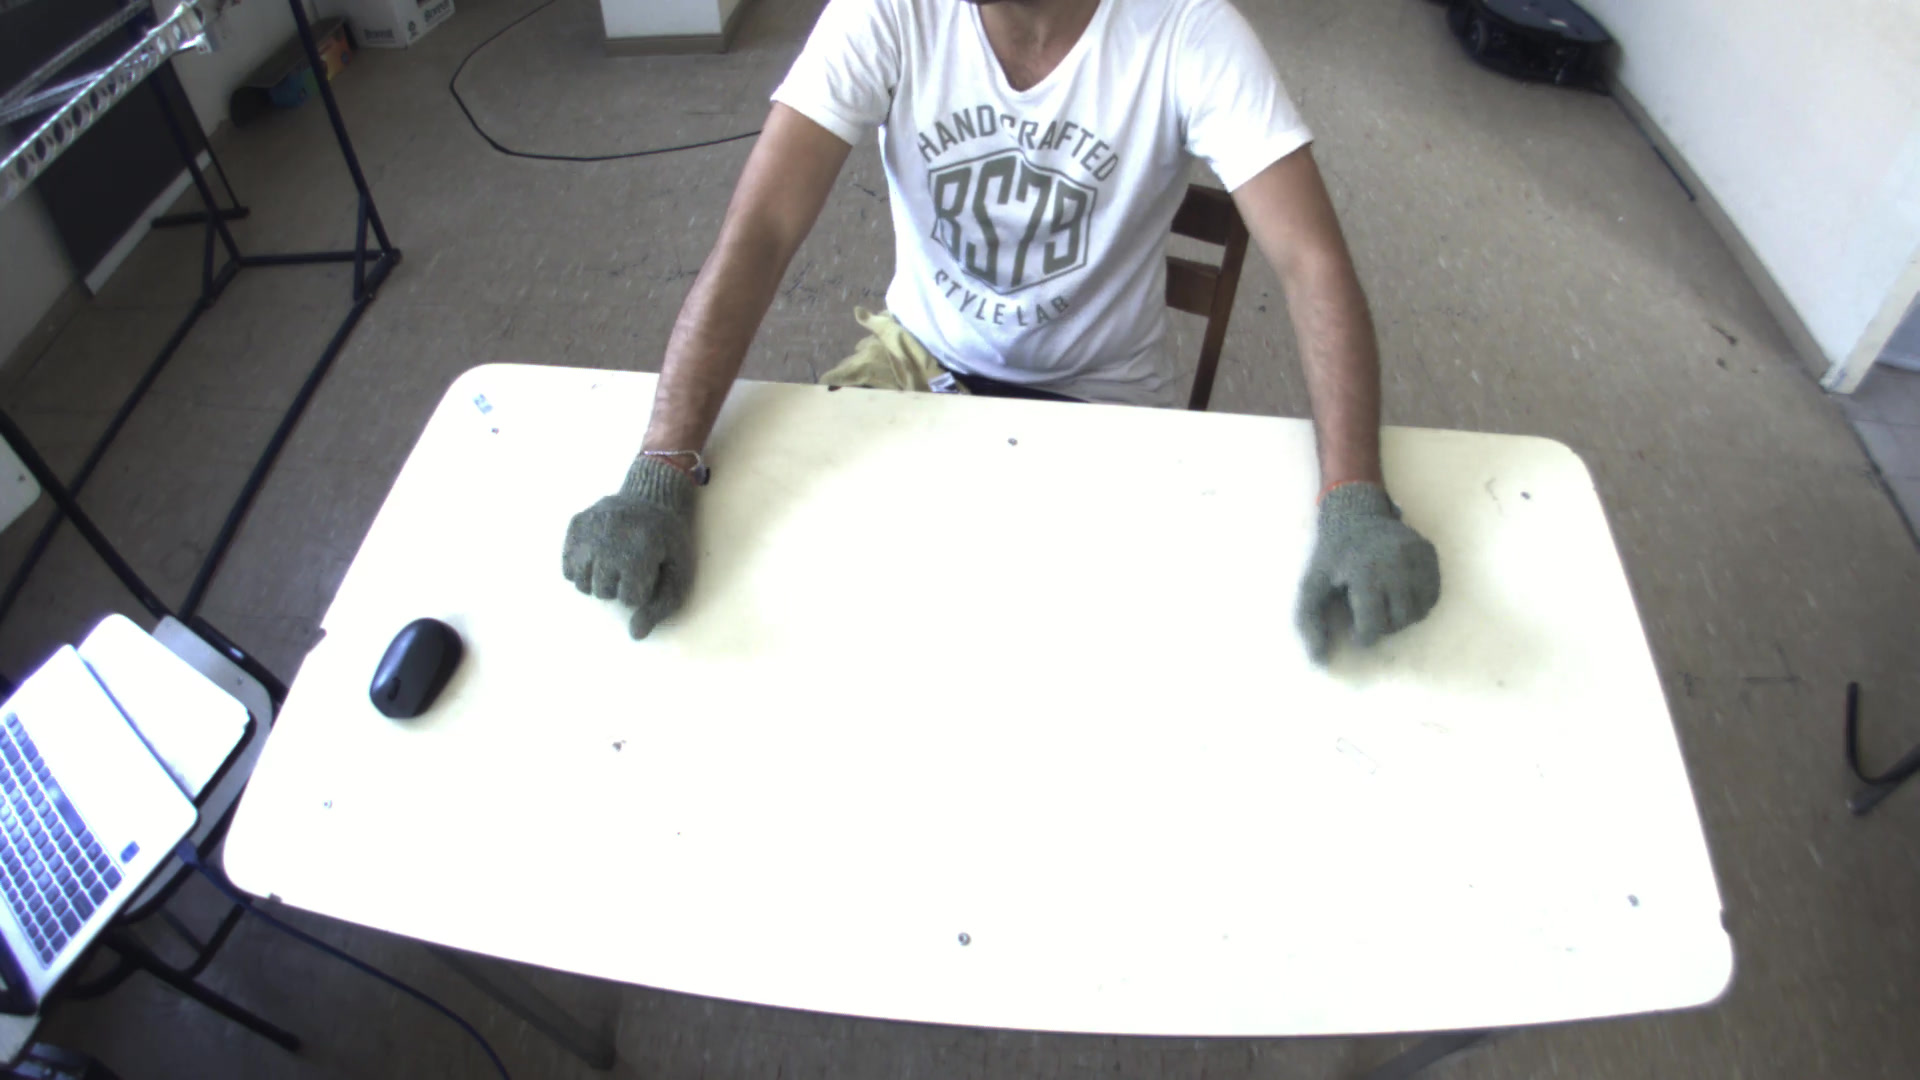hand: (549, 436, 715, 624), (1290, 473, 1451, 662)
